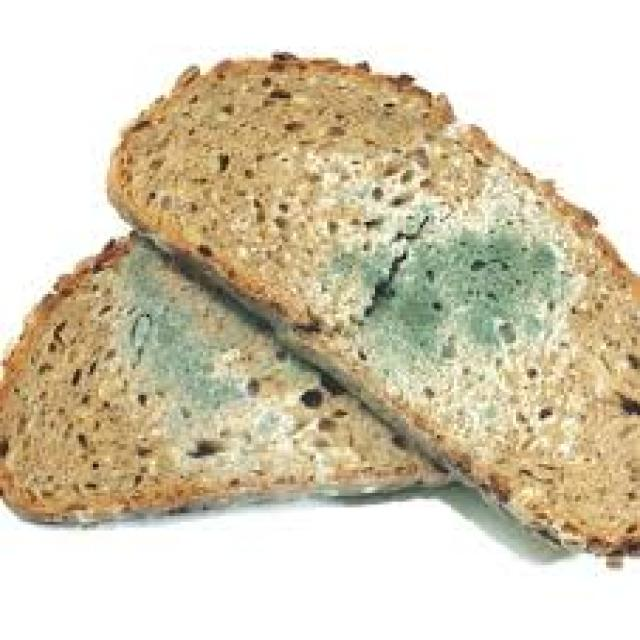food_waste: (0, 52, 637, 551)
